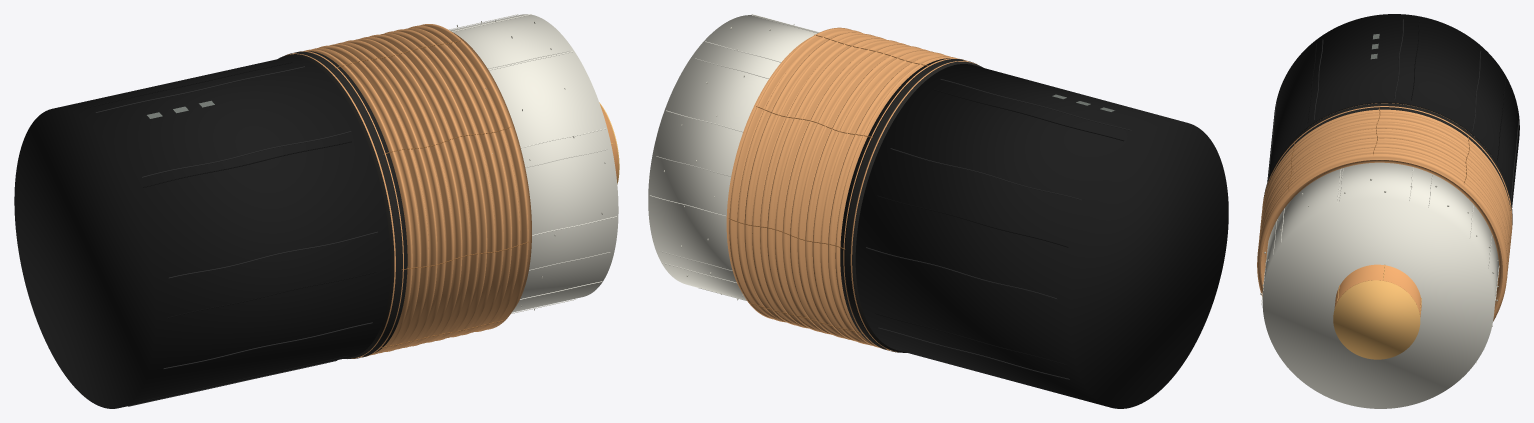
File: rf-ldf45-macro.glb
3 views of the same model, side by side, from view 1: azimuth 30°, elevation 25°; view 2: azimuth 150°, elevation 25°; view 3: azimuth 270°, elevation 25° (orthographic). The views are drawn at different scales.
Parts seen in each view (by area): view 1: macro hardline jacket body, annular corrugated solid shield, macro foam dielectric exposed core, hardline jacket cut wall, rounded jacket cut lip; view 2: macro hardline jacket body, annular corrugated solid shield, macro foam dielectric exposed core, hardline jacket cut wall, rounded jacket cut lip; view 3: macro foam dielectric exposed core, macro hardline jacket body, annular corrugated solid shield, polished conductor cut face glow, polished solid center conductor, hardline jacket cut wall, rounded jacket cut lip.
Boxes of the visible parts, bbox=[...] form: macro hardline jacket body: bbox=[14, 56, 390, 408]; annular corrugated solid shield: bbox=[285, 24, 531, 358]; macro foam dielectric exposed core: bbox=[450, 14, 618, 312]; hardline jacket cut wall: bbox=[277, 51, 407, 358]; rounded jacket cut lip: bbox=[285, 51, 401, 358]; macro hardline jacket body: bbox=[855, 64, 1228, 408]; annular corrugated solid shield: bbox=[726, 27, 977, 352]; macro foam dielectric exposed core: bbox=[648, 15, 818, 300]; hardline jacket cut wall: bbox=[840, 58, 983, 352]; rounded jacket cut lip: bbox=[845, 59, 976, 352]; macro foam dielectric exposed core: bbox=[1262, 162, 1498, 408]; macro hardline jacket body: bbox=[1267, 14, 1519, 207]; annular corrugated solid shield: bbox=[1257, 103, 1512, 321]; polished conductor cut face glow: bbox=[1333, 280, 1420, 359]; polished solid center conductor: bbox=[1334, 264, 1421, 316]; hardline jacket cut wall: bbox=[1268, 102, 1510, 210]; rounded jacket cut lip: bbox=[1263, 103, 1512, 224].
Size of the model in its own units: 6.53 by 3.5 by 3.67.
